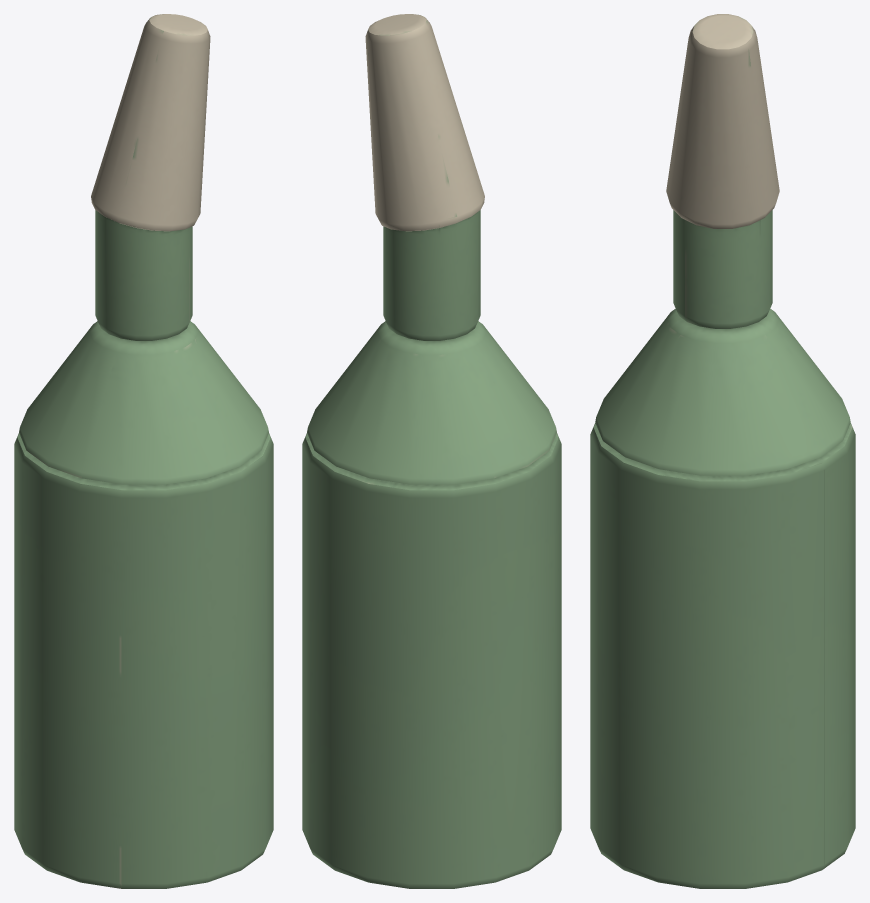
File: molotov.fbx
The picture shows the model from 3 angles, left to right: view 1: azimuth 30°, elevation 25°; view 2: azimuth 150°, elevation 25°; view 3: azimuth 270°, elevation 25°; orthographic projection. The views are drawn at different scales.
Parts seen in each view (by area): view 1: molotov; view 2: molotov; view 3: molotov.
Part boxes in pixels (x1,y1,x2,y2): molotov: [14, 14, 273, 888]; molotov: [302, 14, 561, 888]; molotov: [590, 14, 855, 888].
Bounding box in the file's own units: 0.063 × 0.2211 × 0.064.
